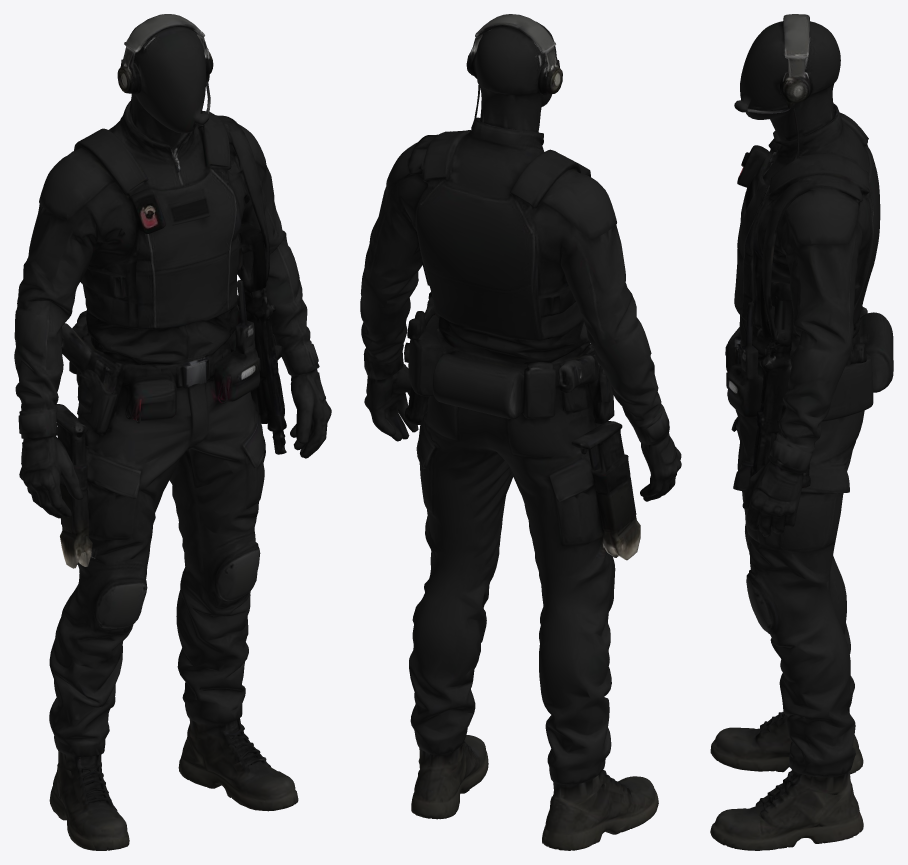
3 renders of one model, left to right at view 1: azimuth 30°, elevation 25°; view 2: azimuth 150°, elevation 25°; view 3: azimuth 270°, elevation 25°, orthographic.
Visible parts, largest first — view 1: material; view 2: material; view 3: material.
Boxes of the visible parts, left/top/right/bottom form: material: left=14, top=14, right=331, bottom=850; material: left=360, top=14, right=681, bottom=850; material: left=710, top=14, right=893, bottom=850.
Bounding box in the file's own units: 0.465 × 1.15 × 0.2432.
Materials: 1 (1 with a texture image).
